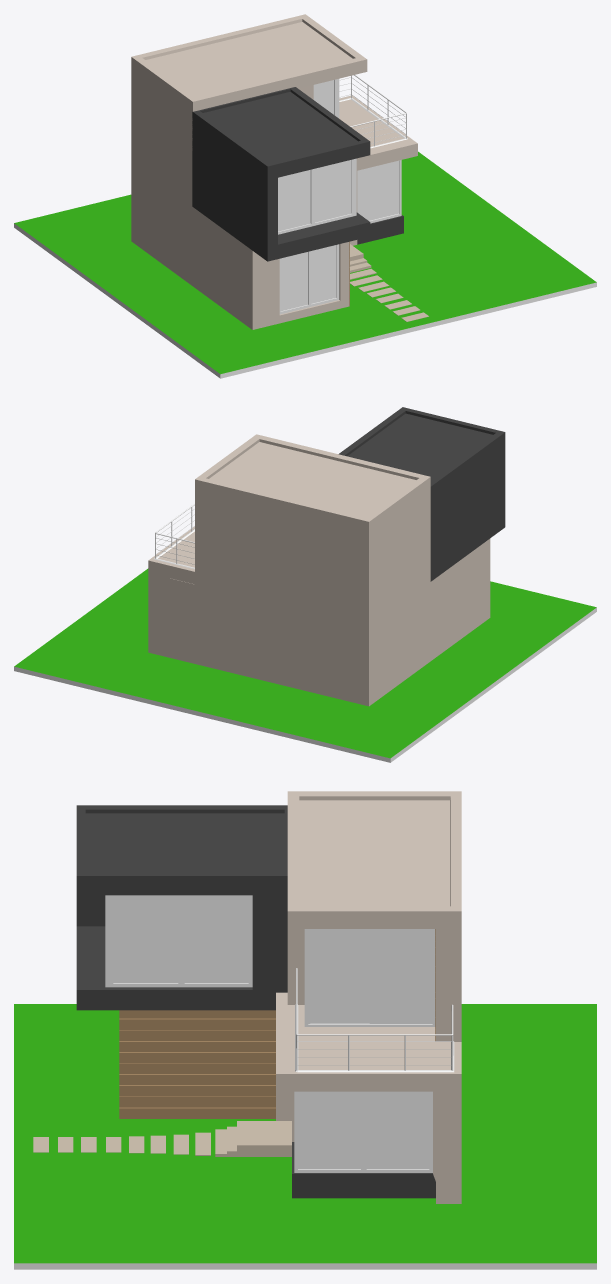
Rendered from Casamoderna.glb.
3 renders of one model, top to bottom at view 1: azimuth 30°, elevation 25°; view 2: azimuth 150°, elevation 25°; view 3: azimuth 270°, elevation 25°, orthographic. The views are drawn at different scales.
Visible parts, largest first — view 1: Cube, andar de cima 2, andar de cima, andar de baixo 2, Janela de cima, andar de baixo, Janela de baixo 1.003, Janela de baixo 1, escadinha, Guarda corpo, Janela porta andar de cima; view 2: Cube, andar de cima, andar de baixo 2, andar de cima 2, andar de baixo, Guarda corpo; view 3: Cube, andar de cima 2, andar de cima, andar de baixo, Madeira, Janela de cima, Janela porta andar de cima, Janela de baixo 1, escadinha, Guarda corpo.
Part boxes in pixels (bbox=[...]): Cube: bbox=[14, 151, 596, 378]; andar de cima 2: bbox=[192, 87, 370, 261]; andar de cima: bbox=[131, 14, 367, 205]; andar de baixo 2: bbox=[131, 162, 349, 329]; Janela de cima: bbox=[278, 158, 356, 234]; andar de baixo: bbox=[339, 95, 417, 245]; Janela de baixo 1.003: bbox=[279, 244, 339, 314]; Janela de baixo 1: bbox=[357, 160, 401, 223]; escadinha: bbox=[350, 244, 428, 321]; Guarda corpo: bbox=[339, 75, 407, 148]; Janela porta andar de cima: bbox=[313, 79, 339, 118]; Cube: bbox=[14, 568, 596, 762]; andar de cima: bbox=[195, 434, 430, 626]; andar de baixo 2: bbox=[161, 538, 490, 706]; andar de cima 2: bbox=[338, 407, 505, 581]; andar de baixo: bbox=[148, 526, 272, 657]; Guarda corpo: bbox=[153, 504, 194, 569]; Cube: bbox=[14, 1004, 596, 1269]; andar de cima 2: bbox=[76, 805, 287, 1010]; andar de cima: bbox=[287, 791, 461, 1041]; andar de baixo: bbox=[276, 992, 461, 1203]; Madeira: bbox=[119, 1010, 275, 1118]; Janela de cima: bbox=[105, 895, 252, 987]; Janela porta andar de cima: bbox=[304, 929, 435, 1026]; Janela de baixo 1: bbox=[294, 1091, 432, 1172]; escadinha: bbox=[33, 1121, 291, 1156]; Guarda corpo: bbox=[295, 968, 454, 1072].
Size of the model in its own units: 12.79 by 6.14 by 12.15.
